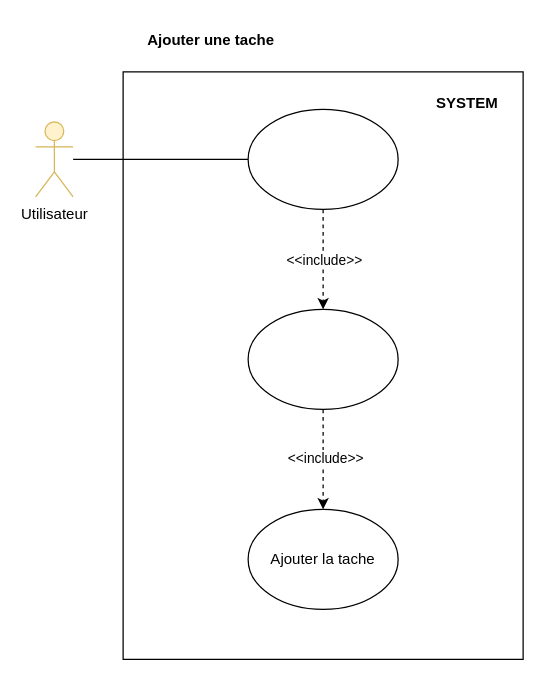
This 545x681 diagram has some shape labels left out. Here are the shapes that lost their labels. From the top down, the box of each, then its label:
(247, 108, 398, 209): Connexion à l'application
(247, 308, 398, 409): Afficher le formulaire d'ajout
